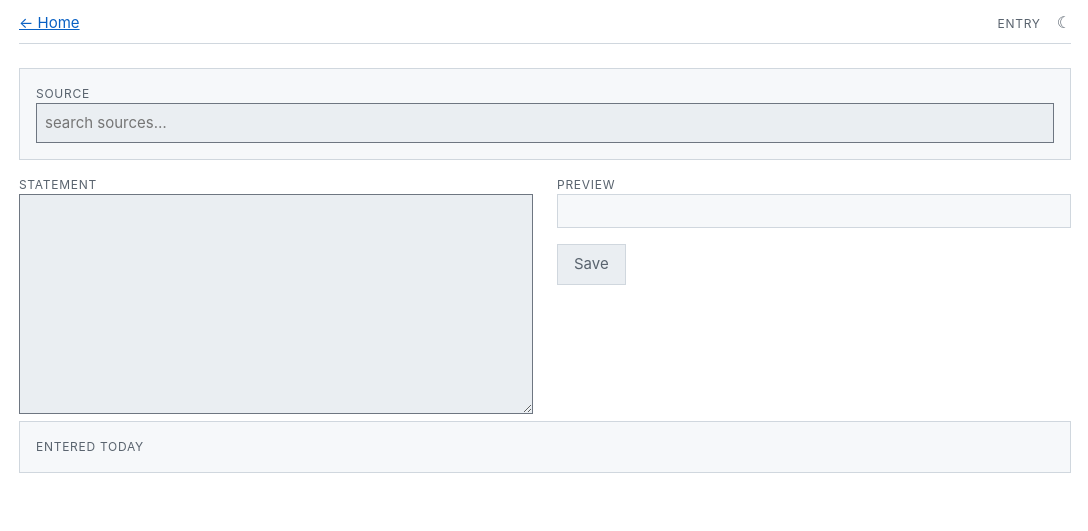
the entry screen › holds the source pick across a save
The width and height of the screenshot is (1088, 531).
Type "ridd" into the field labelled "search sources" at (545, 123), box 36,102 -> 1054,143
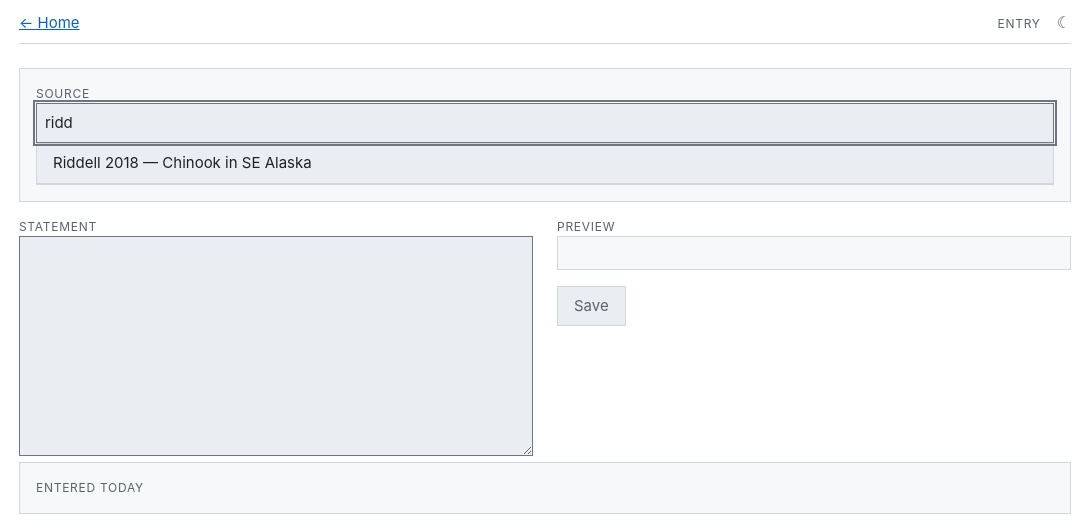
Click the button "Riddell 2018 — Chinook in SE Alaska" at (182, 162), box 37,144 -> 1053,184
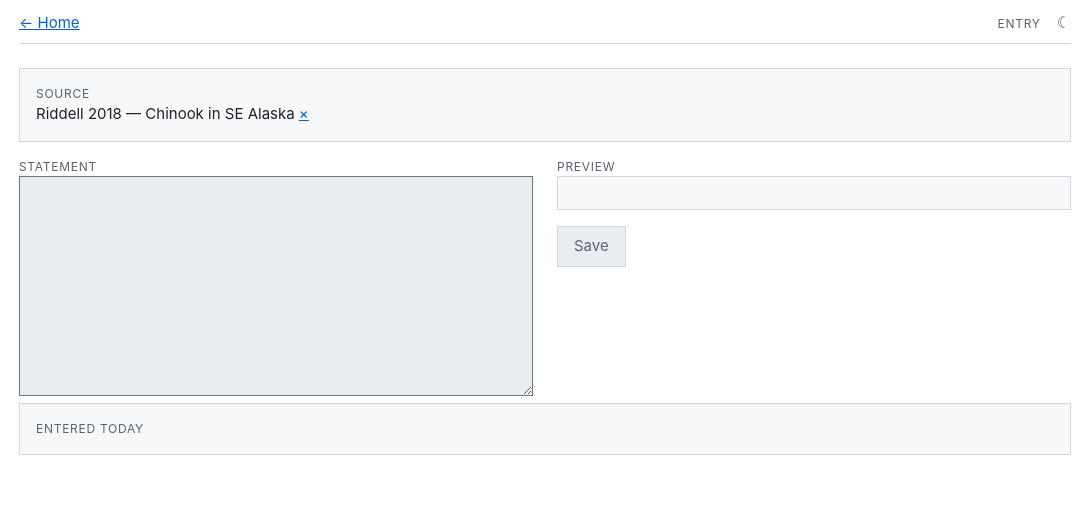
Type "Yukon fish transition at 85-90 mm" into the text box named "statement" at (276, 286), box 19,176 -> 533,396
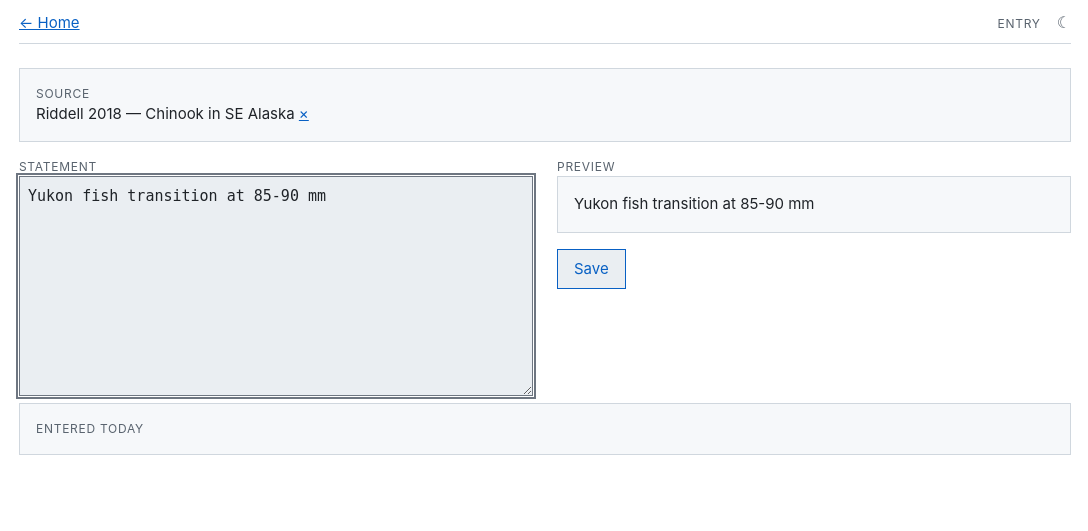
Click the button "Save" at (591, 269), box 557,248 -> 626,289
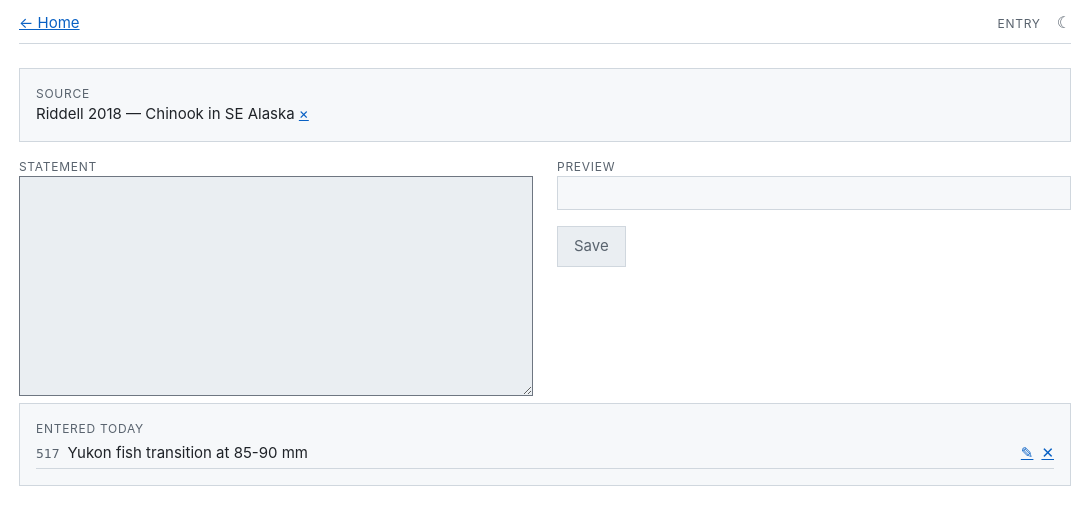
Expected: the text "Riddell 2018 — Chinook in SE Alaska ×" is shown, 36,102 -> 309,125
Expected: the text box named "statement" is empty, 19,176 -> 533,396
